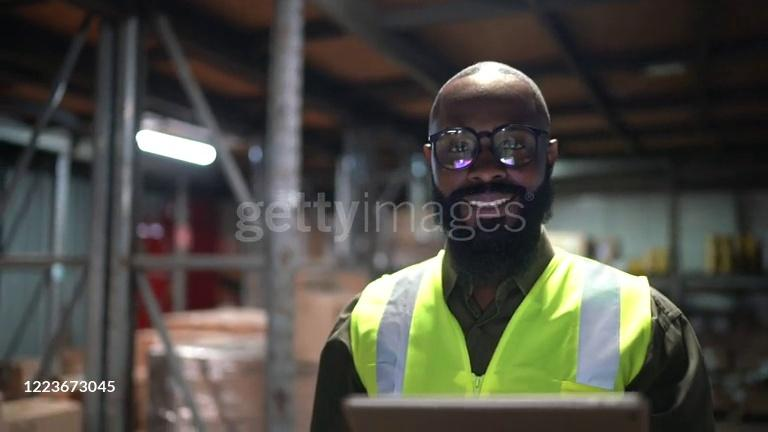person: (313, 59, 717, 432)
